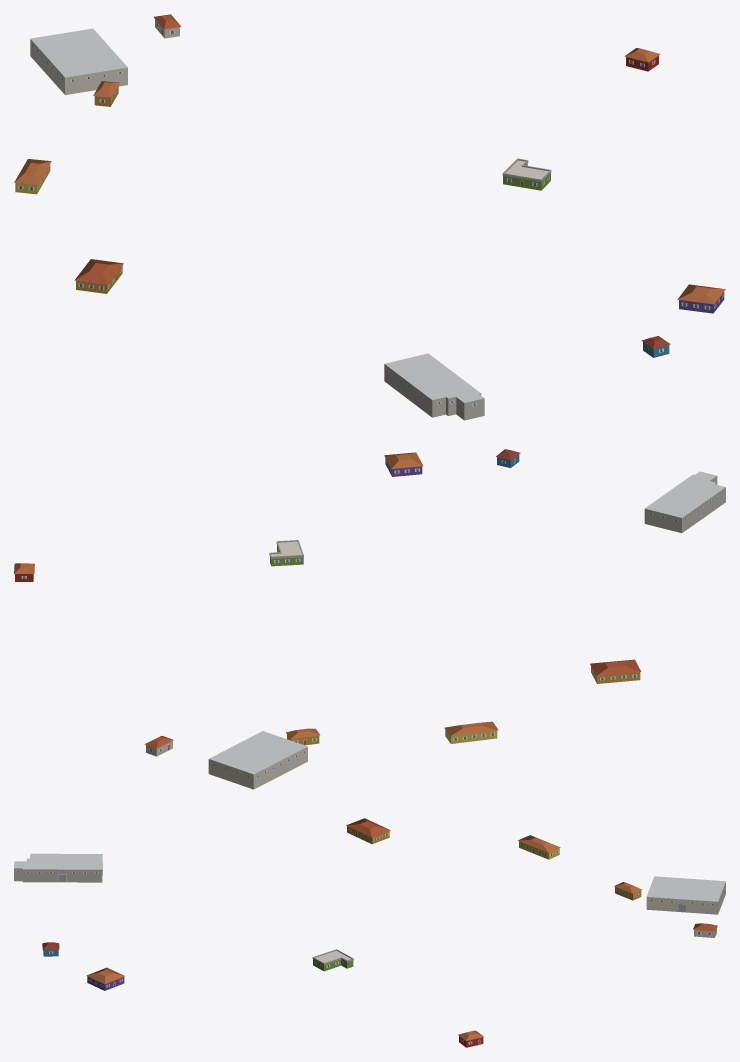
File: msb_oranjestad_m15_1.glb
The picture shows the model from 3 angles, top to bottom: view 1: azimuth 30°, elevation 25°; view 2: azimuth 150°, elevation 25°; view 3: azimuth 270°, elevation 25°; orthographic projection. The views are drawn at different scales.
Visible parts, largest first — view 1: msb_oranjestad_m15_1_lod0; view 2: msb_oranjestad_m15_1_lod0; view 3: msb_oranjestad_m15_1_lod0.
Part boxes in pixels (<box>): msb_oranjestad_m15_1_lod0: <box>14,14,725,420</box>; msb_oranjestad_m15_1_lod0: <box>14,449,725,789</box>; msb_oranjestad_m15_1_lod0: <box>14,818,725,1047</box>.
Size of what is drawn, in the model's own units: 246 by 11.12 by 315.
Materials: 3 (1 with a texture image).
